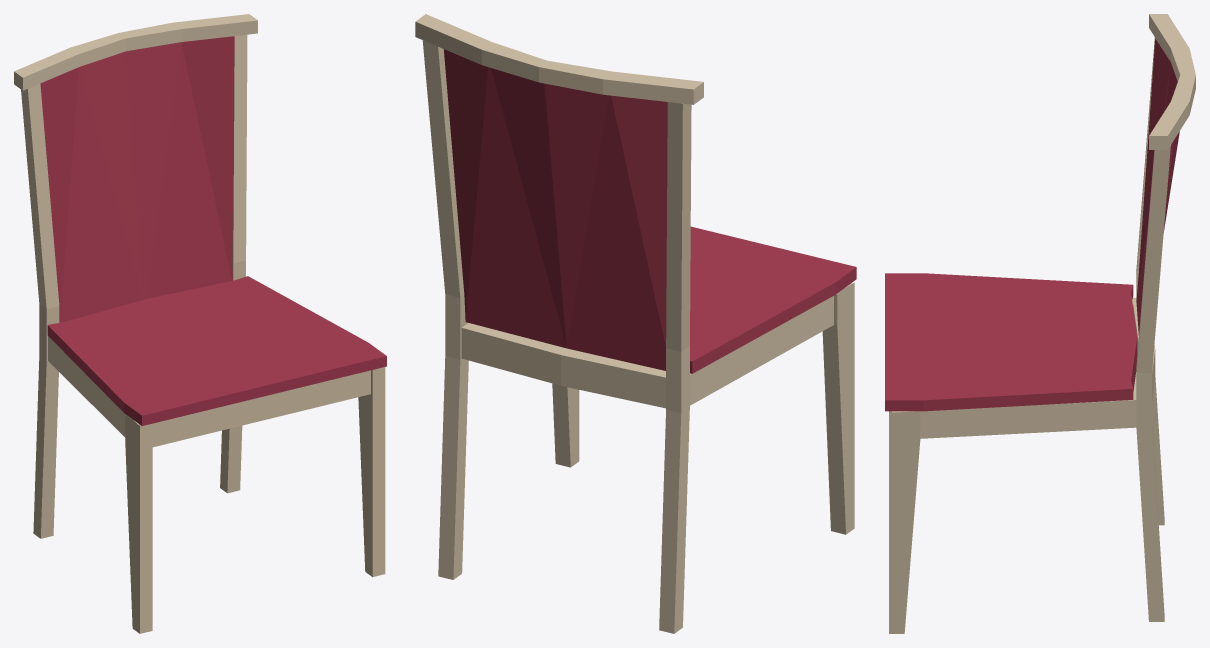
Rendered from sweethome3d-contributions-chair-367.glb.
3 renders of one model, left to right at view 1: azimuth 30°, elevation 25°; view 2: azimuth 150°, elevation 25°; view 3: azimuth 270°, elevation 25°, orthographic. The views are drawn at different scales.
Parts seen in each view (by area): view 1: 2_2, 1_1, 3_3; view 2: 2_2, 1_1, 3_3; view 3: 3_3, 1_1, 2_2.
Boxes of the visible parts, left/top/right/bottom form: 2_2: left=40, top=36, right=234, bottom=322; 1_1: left=14, top=14, right=385, bottom=633; 3_3: left=47, top=276, right=386, bottom=425; 2_2: left=443, top=49, right=667, bottom=370; 1_1: left=415, top=14, right=854, bottom=633; 3_3: left=690, top=226, right=856, bottom=373; 3_3: left=885, top=273, right=1137, bottom=411; 1_1: left=889, top=14, right=1195, bottom=633; 2_2: left=1136, top=38, right=1179, bottom=335.
Bounding box in the file's own units: 48 × 87 × 49.5.
